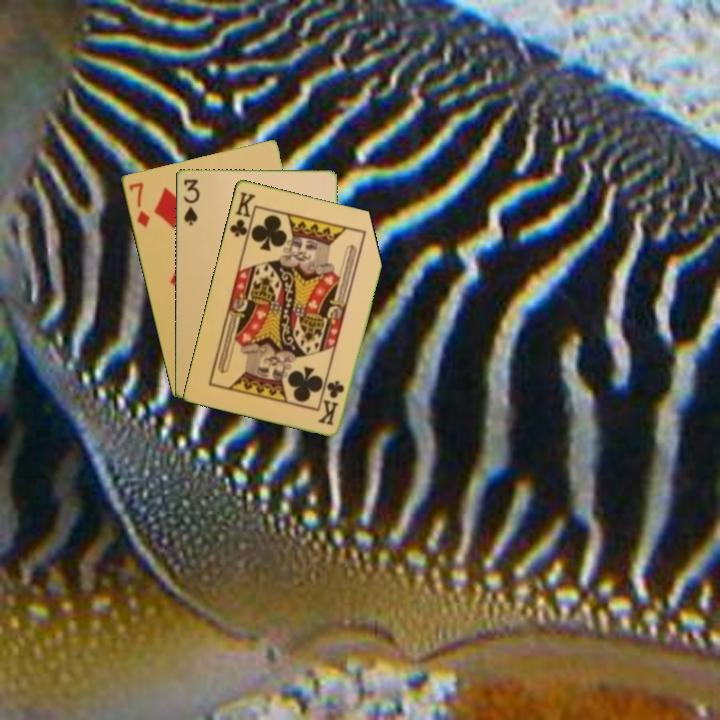3s: (180, 175, 202, 228)
7d: (125, 178, 152, 231)
Kc: (226, 188, 258, 244), (315, 376, 347, 428)
